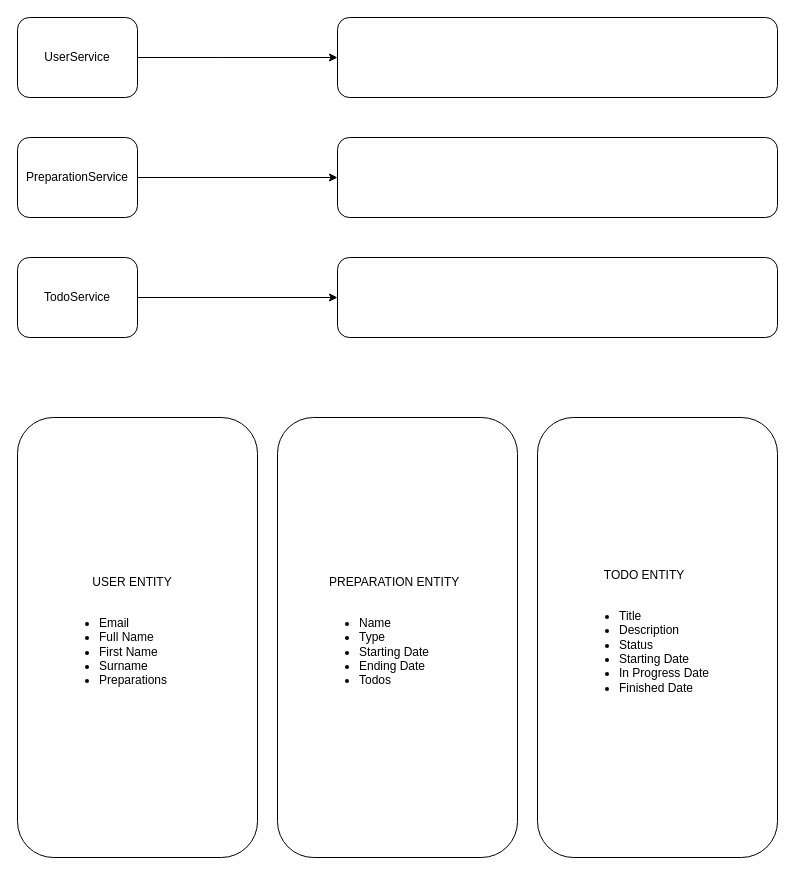
Image size: 795x875. Some labels were removed from this diagram. The shapes that lost their labels are listed below. From the top down, each one's box as (x1, y1, x2, y2) in pixels, then its label:
(336, 16, 778, 98): User Login User Signup Store User Preparations
(336, 136, 778, 218): Preparation CRUD Store Preparation Todos
(336, 256, 778, 338): Todo CRUD
